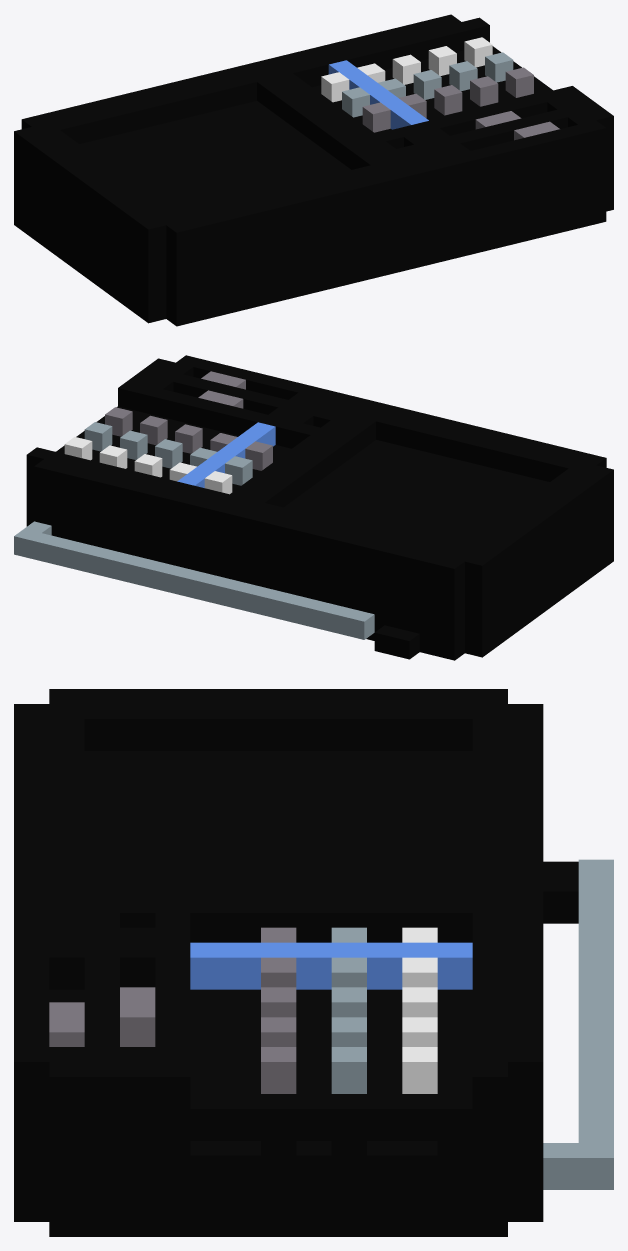
File: radio_nonna.gltf
3 views of the same model, one above another, from view 1: azimuth 30°, elevation 25°; view 2: azimuth 150°, elevation 25°; view 3: azimuth 270°, elevation 25° (orthographic). The views are drawn at different scales.
Parts seen in each view (by area): view 1: Layer.1, Layer.4, Layer.2, Layer.3, Layer.5, Layer.8; view 2: Layer.1, Layer.9, Layer.3, Layer.4, Layer.2, Layer.5, Layer.6, Layer.8; view 3: Layer.1, Layer.9, Layer.6, Layer.5, Layer.2, Layer.3, Layer.4, Layer.8.
Boxes of the visible parts, <box> form: Layer.1: <box>14,14,613,326</box>; Layer.4: <box>362,67,533,132</box>; Layer.2: <box>321,37,492,102</box>; Layer.3: <box>342,52,513,117</box>; Layer.5: <box>328,60,428,129</box>; Layer.8: <box>475,111,559,140</box>; Layer.1: <box>26,355,613,660</box>; Layer.9: <box>14,521,374,639</box>; Layer.3: <box>84,422,252,485</box>; Layer.4: <box>105,407,272,470</box>; Layer.2: <box>64,437,232,494</box>; Layer.5: <box>177,422,275,487</box>; Layer.6: <box>374,625,419,659</box>; Layer.8: <box>198,371,245,408</box>; Layer.1: <box>14,689,543,1236</box>; Layer.9: <box>543,859,613,1189</box>; Layer.6: <box>190,861,578,1187</box>; Layer.5: <box>190,942,472,989</box>; Layer.2: <box>402,927,437,1093</box>; Layer.3: <box>331,927,366,1093</box>; Layer.4: <box>261,927,296,1093</box>; Layer.8: <box>49,987,155,1046</box>.
Size of the model in its own units: 27 by 5 by 17.
1 material, 1 textured.
